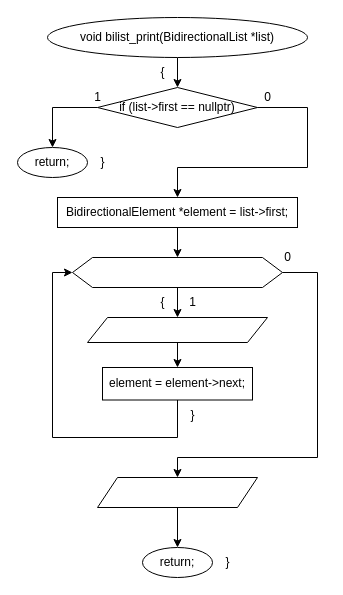
Image size: 343x595. Some labels were removed from this diagram. The shapes that lost their labels are listed below. From the top down, each one's centre as x and y in pixels, then its label:
point (177, 272): for (int i = 2; i <= list->size; i++)
point (177, 329): cout << element->key << ", ";
point (177, 492): cout << element->key;
